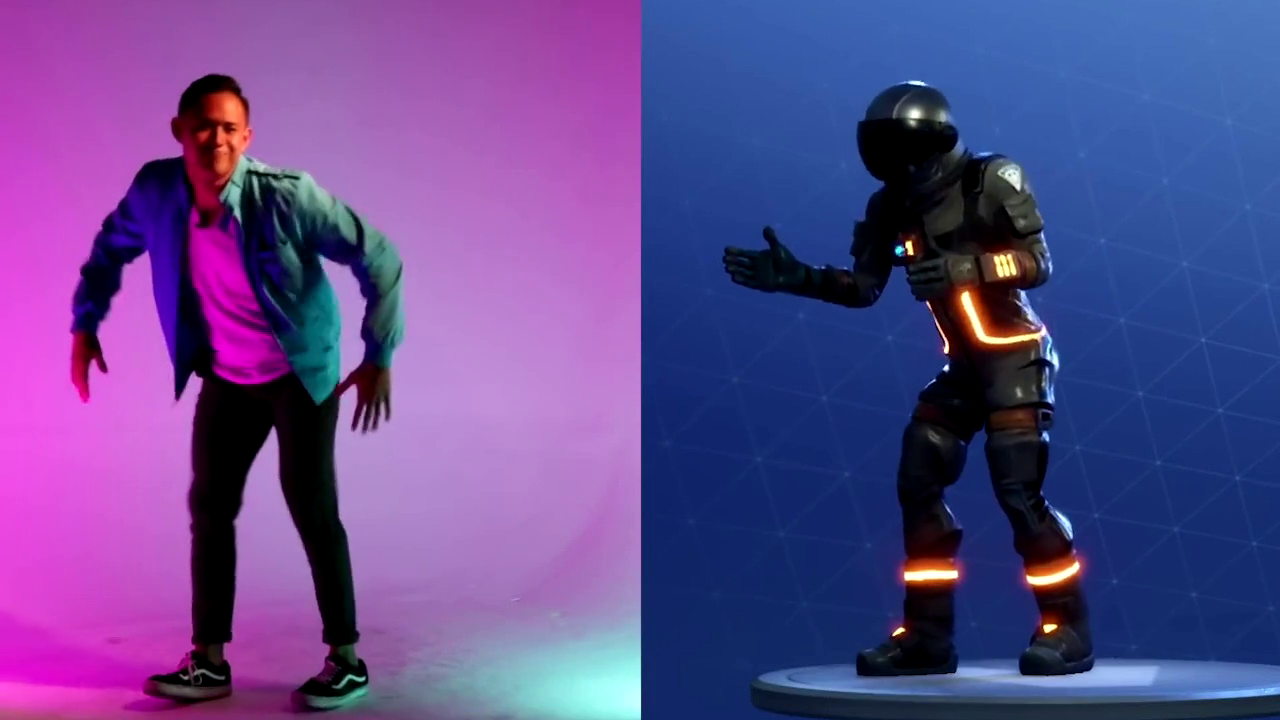Head: (160, 66, 269, 190)
Hip: (173, 363, 376, 454)
LeftAnkle: (287, 614, 384, 713)
LeftElbow: (321, 223, 435, 297)
LeftKnee: (136, 618, 249, 711)
LeftShoulder: (238, 146, 347, 235)
LeftWrist: (313, 343, 436, 435)
RightAnkle: (252, 466, 359, 547)
RightElbow: (60, 201, 153, 290)
RightKnee: (169, 471, 250, 556)
RightShoulder: (119, 143, 203, 221)
RightWrist: (47, 296, 129, 403)
Torso: (154, 181, 325, 368)
